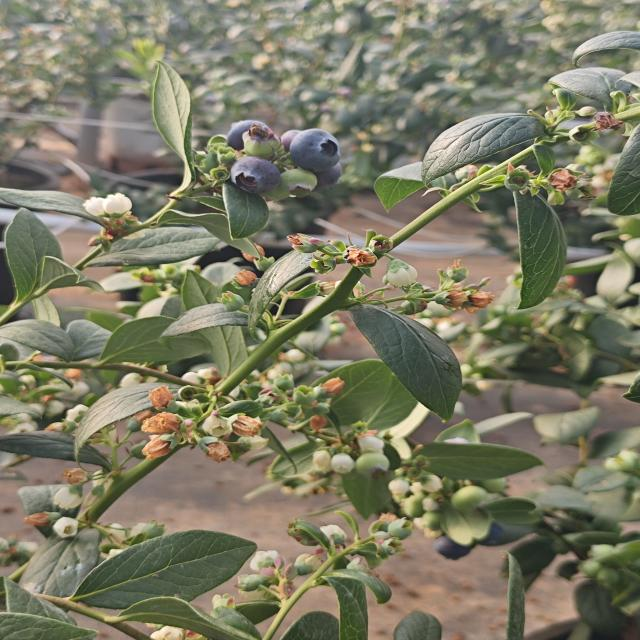ripe: (285, 127, 343, 174), (226, 155, 283, 197), (223, 118, 274, 154)
